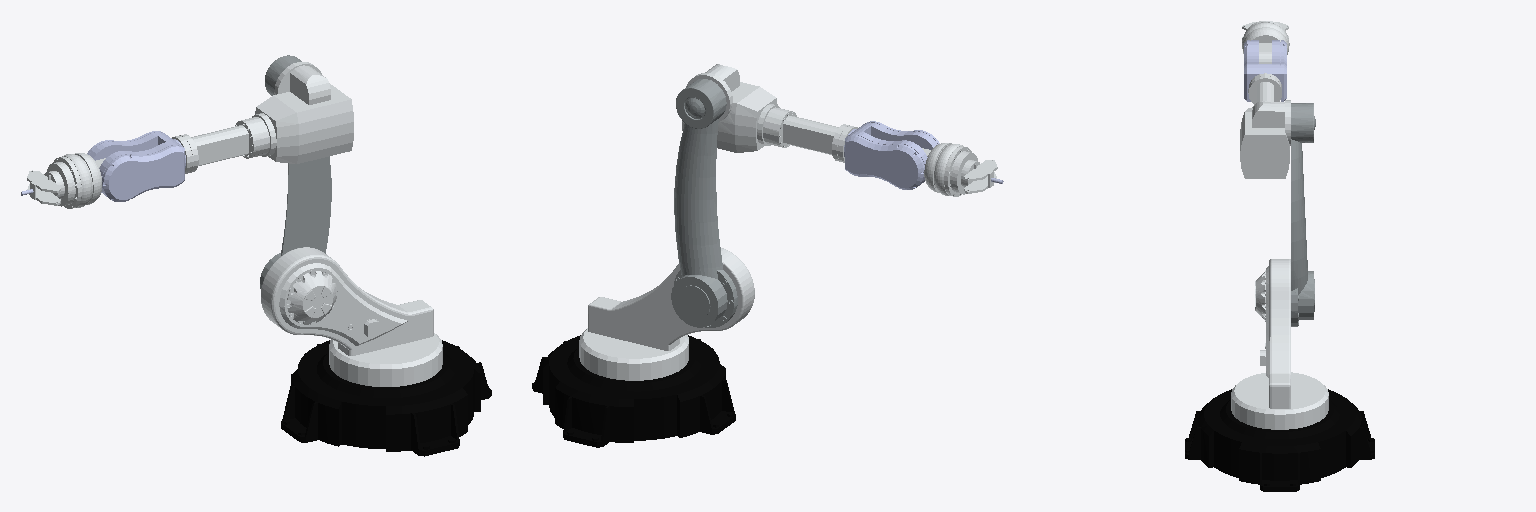
URDF robot description (dof6arm):
<?xml version="1.0" encoding="utf-8"?>
<!-- This URDF was automatically created by SolidWorks to URDF Exporter! Originally created by Stephen Brawner (brawner@gmail.com) 
     Commit Version: 1.6.0-4-g7f85cfe  Build Version: 1.6.7995.38578
     For more information, please see http://wiki.ros.org/sw_urdf_exporter -->
<robot
  name="dof6arm">

  <link name="world_rviz"/>

  <link
    name="base_link">
    <inertial>
      <origin
        xyz="-2.8338E-17 -1.0375E-17 0.039627"
        rpy="0 0 0" />
      <mass
        value="5.5104" />
      <inertia
        ixx="0.032533"
        ixy="-5.7178E-17"
        ixz="1.4037E-17"
        iyy="0.032533"
        iyz="-4.4371E-17"
        izz="0.058905" />
    </inertial>
    <visual>
      <origin
        xyz="0 0 0"
        rpy="0 0 0" />
      <geometry>
        <mesh
          filename="package://dof6arm/meshes/base_link.STL" />
      </geometry>
      <material
        name="">
        <color
          rgba="0.058824 0.058824 0.058824 1" />
      </material>
    </visual>
    <collision>
      <origin
        xyz="0 0 0"
        rpy="0 0 0" />
      <geometry>
        <mesh
          filename="package://dof6arm/meshes/base_link.STL" />
      </geometry>
    </collision>
  </link>

  <joint name="world_joint" type="fixed">
    <parent link="world_rviz"/>
    <child link="base_link"/>
    <origin xyz="0 0 0" rpy="0 0 -1.5708"/>
  </joint>

  <link
    name="link1">
    <inertial>
      <origin
        xyz="0.056315 0.0023965 0.081396"
        rpy="0 0 0" />
      <mass
        value="2.2549" />
      <inertia
        ixx="0.011608"
        ixy="-0.00040169"
        ixz="-0.0088797"
        iyy="0.023156"
        iyz="-0.00035105"
        izz="0.01588" />
    </inertial>
    <visual>
      <origin
        xyz="0 0 0"
        rpy="0 0 0" />
      <geometry>
        <mesh
          filename="package://dof6arm/meshes/link1.STL" />
      </geometry>
      <material
        name="">
        <color
          rgba="0.89804 0.91765 0.92941 1" />
      </material>
    </visual>
    <collision>
      <origin
        xyz="0 0 0"
        rpy="0 0 0" />
      <geometry>
        <mesh
          filename="package://dof6arm/meshes/link1.STL" />
      </geometry>
    </collision>
  </link>
  <joint
    name="joint1"
    type="revolute">
    <origin
      xyz="0 0 0.085"
      rpy="0 0 1.5708" />
    <parent
      link="base_link" />
    <child
      link="link1" />
    <axis
      xyz="0 0 1" />
    <limit
      lower="3.14"
      upper="3.14"
      effort="200"
      velocity="10" />
  </joint>
  <link
    name="link2">
    <inertial>
      <origin
        xyz="-0.0080603 0.14266 0.015223"
        rpy="0 0 0" />
      <mass
        value="0.92071" />
      <inertia
        ixx="0.017861"
        ixy="0.00015241"
        ixz="-3.0375E-05"
        iyy="0.00061487"
        iyz="7.163E-05"
        izz="0.018205" />
    </inertial>
    <visual>
      <origin
        xyz="0 0 0"
        rpy="0 0 0" />
      <geometry>
        <mesh
          filename="package://dof6arm/meshes/link2.STL" />
      </geometry>
      <material
        name="">
        <color
          rgba="0.63922 0.66667 0.67843 1" />
      </material>
    </visual>
    <collision>
      <origin
        xyz="0 0 0"
        rpy="0 0 0" />
      <geometry>
        <mesh
          filename="package://dof6arm/meshes/link2.STL" />
      </geometry>
    </collision>
  </link>
  <joint
    name="joint2"
    type="revolute">
    <origin
      xyz="0.15 -0.02 0.16"
      rpy="1.5708 0 0" />
    <parent
      link="link1" />
    <child
      link="link2" />
    <axis
      xyz="0 0 1" />
    <limit
      lower="-1.57"
      upper="1.57"
      effort="200"
      velocity="10" />
  </joint>
  <link
    name="link3">
    <inertial>
      <origin
        xyz="-0.037874 -0.081929 -0.0086553"
        rpy="0 0 0" />
      <mass
        value="1.4315" />
      <inertia
        ixx="0.0080768"
        ixy="-0.00032475"
        ixz="-0.00011286"
        iyy="0.0018664"
        iyz="-9.3414E-05"
        izz="0.0084455" />
    </inertial>
    <visual>
      <origin
        xyz="0 0 0"
        rpy="0 0 0" />
      <geometry>
        <mesh
          filename="package://dof6arm/meshes/link3.STL" />
      </geometry>
      <material
        name="">
        <color
          rgba="0.89804 0.91765 0.92941 1" />
      </material>
    </visual>
    <collision>
      <origin
        xyz="0 0 0"
        rpy="0 0 0" />
      <geometry>
        <mesh
          filename="package://dof6arm/meshes/link3.STL" />
      </geometry>
    </collision>
  </link>
  <joint
    name="joint3"
    type="revolute">
    <origin
      xyz="-0.0373120803311945 0.347958550658273 -0.0373820601117326"
      rpy="0 0 1.5707963267949" />
    <parent
      link="link2" />
    <child
      link="link3" />
    <axis
      xyz="0 0 1" />
    <limit
      lower="-3.14"
      upper="1.57"
      effort="200"
      velocity="10" />
  </joint>
  <link
    name="link4">
    <inertial>
      <origin
        xyz="0 1.38777878078145E-17 0.0659648893354512"
        rpy="0 0 0" />
      <mass
        value="0.581435273248316" />
      <inertia
        ixx="0.00158017066215487"
        ixy="2.44381629744968E-10"
        ixz="-4.57912642337429E-19"
        iyy="0.0014063460239573"
        iyz="-2.68731603937658E-19"
        izz="0.000596523986913167" />
    </inertial>
    <visual>
      <origin
        xyz="0 0 0"
        rpy="0 0 0" />
      <geometry>
        <mesh
          filename="package://dof6arm/meshes/link4.STL" />
      </geometry>
      <material
        name="">
        <color
          rgba="0.792156862745098 0.819607843137255 0.933333333333333 1" />
      </material>
    </visual>
    <collision>
      <origin
        xyz="0 0 0"
        rpy="0 0 0" />
      <geometry>
        <mesh
          filename="package://dof6arm/meshes/link4.STL" />
      </geometry>
    </collision>
  </link>
  <joint
    name="joint4"
    type="revolute">
    <origin
      xyz="-0.0429585506582734 -0.288312080331216 -0.0101179398882675"
      rpy="1.5707963267949 0 0" />
    <parent
      link="link3" />
    <child
      link="link4" />
    <axis
      xyz="0 0 1" />
    <limit
      lower="-3.14"
      upper="3.14"
      effort="200"
      velocity="10" />
  </joint>
  <link
    name="link5">
    <inertial>
      <origin
        xyz="-2.22044604925031E-16 -0.0589618551288013 0.000178318239085751"
        rpy="0 0 0" />
      <mass
        value="0.339144547925523" />
      <inertia
        ixx="0.000355541202477726"
        ixy="9.17440418306188E-21"
        ixz="-3.40456917885845E-21"
        iyy="0.000248853470602005"
        iyz="-3.56575702010602E-06"
        izz="0.000358769992191288" />
    </inertial>
    <visual>
      <origin
        xyz="0 0 0"
        rpy="0 0 0" />
      <geometry>
        <mesh
          filename="package://dof6arm/meshes/link5.STL" />
      </geometry>
      <material
        name="">
        <color
          rgba="0.898039215686275 0.917647058823529 0.929411764705882 1" />
      </material>
    </visual>
    <collision>
      <origin
        xyz="0 0 0"
        rpy="0 0 0" />
      <geometry>
        <mesh
          filename="package://dof6arm/meshes/link5.STL" />
      </geometry>
    </collision>
  </link>
  <joint
    name="joint5"
    type="revolute">
    <origin
      xyz="0 0.000499999999999997 0.109999999999978"
      rpy="-1.5707963267949 0 0" />
    <parent
      link="link4" />
    <child
      link="link5" />
    <axis
      xyz="0 0 1" />
    <limit
      lower="-1.57"
      upper="1.57"
      effort="200"
      velocity="10" />
  </joint>
  <link
    name="link6">
    <inertial>
      <origin
        xyz="0 0 0.00628470620704236"
        rpy="0 0 0" />
      <mass
        value="0.0762574810565132" />
      <inertia
        ixx="3.79559798700621E-05"
        ixy="1.86509367076551E-21"
        ixz="-6.62000777514621E-22"
        iyy="3.20288004196063E-05"
        iyz="1.93589180543697E-21"
        izz="3.99525744954329E-05" />
    </inertial>
    <visual>
      <origin
        xyz="0 0 0"
        rpy="0 0 0" />
      <geometry>
        <mesh
          filename="package://dof6arm/meshes/link6.STL" />
      </geometry>
      <material
        name="">
        <color
          rgba="0.898039215686275 0.917647058823529 0.929411764705882 1" />
      </material>
    </visual>
    <collision>
      <origin
        xyz="0 0 0"
        rpy="0 0 0" />
      <geometry>
        <mesh
          filename="package://dof6arm/meshes/link6.STL" />
      </geometry>
    </collision>
  </link>
  <joint
    name="joint6"
    type="revolute">
    <origin
      xyz="0 -0.104 0"
      rpy="1.5708 0 0" />
    <parent
      link="link5" />
    <child
      link="link6" />
    <axis
      xyz="0 0 1" />
    <limit
      lower="-3.14"
      upper="3.14"
      effort="200"
      velocity="10" />
  </joint>
  <link
    name="endfector">
    <inertial>
      <origin
        xyz="0 -3.46944695195361E-18 -0.0100000000000001"
        rpy="0 0 0" />
      <mass
        value="0.000685060136396829" />
      <inertia
        ixx="2.47026526555058E-08"
        ixy="0"
        ixz="-1.45952014856585E-25"
        iyy="2.47026526555058E-08"
        iyz="5.49495304145091E-26"
        izz="3.73462955122285E-09" />
    </inertial>
    <visual>
      <origin
        xyz="0 0 0"
        rpy="0 0 0" />
      <geometry>
        <mesh
          filename="package://dof6arm/meshes/endfector.STL" />
      </geometry>
      <material
        name="">
        <color
          rgba="0.792156862745098 0.819607843137255 0.933333333333333 1" />
      </material>
    </visual>
    <collision>
      <origin
        xyz="0 0 0"
        rpy="0 0 0" />
      <geometry>
        <mesh
          filename="package://dof6arm/meshes/endfector.STL" />
      </geometry>
    </collision>
  </link>
  <joint
    name="joint7"
    type="fixed">
    <origin
      xyz="0 0 0.065605"
      rpy="0 0 0" />
    <parent
      link="link6" />
    <child
      link="endfector" />
    <axis
      xyz="0 0 0" />
  </joint>
</robot>

--- Facts derived from the render (not from the file) ---
Views: 3 orthographic renders of the robot side by side, from view 1: azimuth 30°, elevation 25°; view 2: azimuth 150°, elevation 25°; view 3: azimuth 270°, elevation 25°.
Model dof6arm with 9 links and 8 joints (6 revolute, 2 fixed), rooted at world_rviz, posed joints at zero except 1 at the middle of their limits (joint1 = 3.14).
Links seen in each view (by area): view 1: link1, base_link, link3, link4, link2, link5, link6; view 2: base_link, link2, link1, link3, link4, link5, link6; view 3: base_link, link1, link3, link2, link4, link5.
Link boxes in pixels (x1,y1,x2,y2): link1: (261,247,442,386); base_link: (281,340,491,456); link3: (172,62,353,173); link4: (87,131,185,201); link2: (260,55,331,288); link5: (53,153,105,208); link6: (27,162,73,206); base_link: (532,335,735,447); link2: (671,79,737,327); link1: (579,248,754,380); link3: (682,64,857,162); link4: (844,121,939,189); link5: (922,143,971,196); link6: (952,152,997,194); base_link: (1185,389,1374,491); link1: (1231,259,1328,429); link3: (1240,73,1290,178); link2: (1291,103,1315,326); link4: (1244,40,1286,101); link5: (1242,21,1289,63).
Bounding box of the posed robot: 0.8557 × 0.35 × 0.6374 m (x, y, z).
Meshes: 8 distinct files referenced, 8 mesh visuals loaded (8 binary STL).
